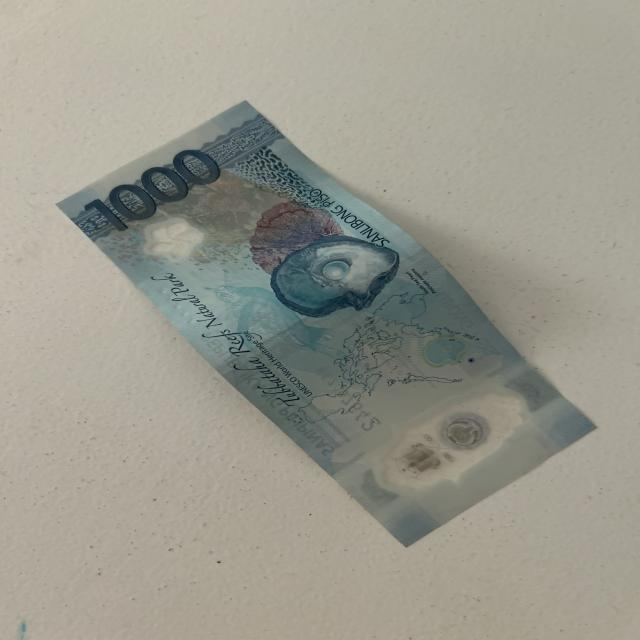clear_window: (342, 369, 559, 521)
sampaguita: (130, 212, 217, 270)
security_thread: (208, 243, 454, 391)
value: (90, 136, 234, 241)
value_watermark: (508, 372, 553, 409)
